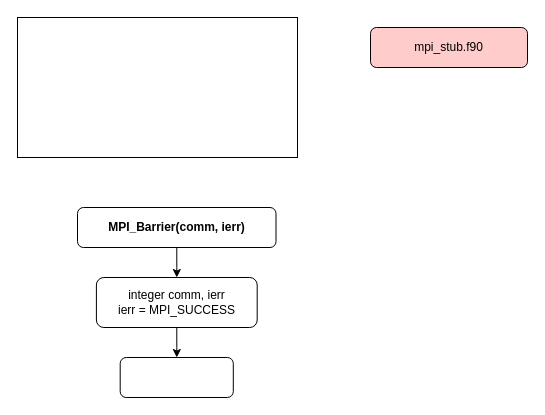
Image size: 545x415. Some labels were removed from this diagram. The centre of each missing label's shape, as x and y in pixels:
Dependencies:: [157,87]
end subroutine: [176,377]
